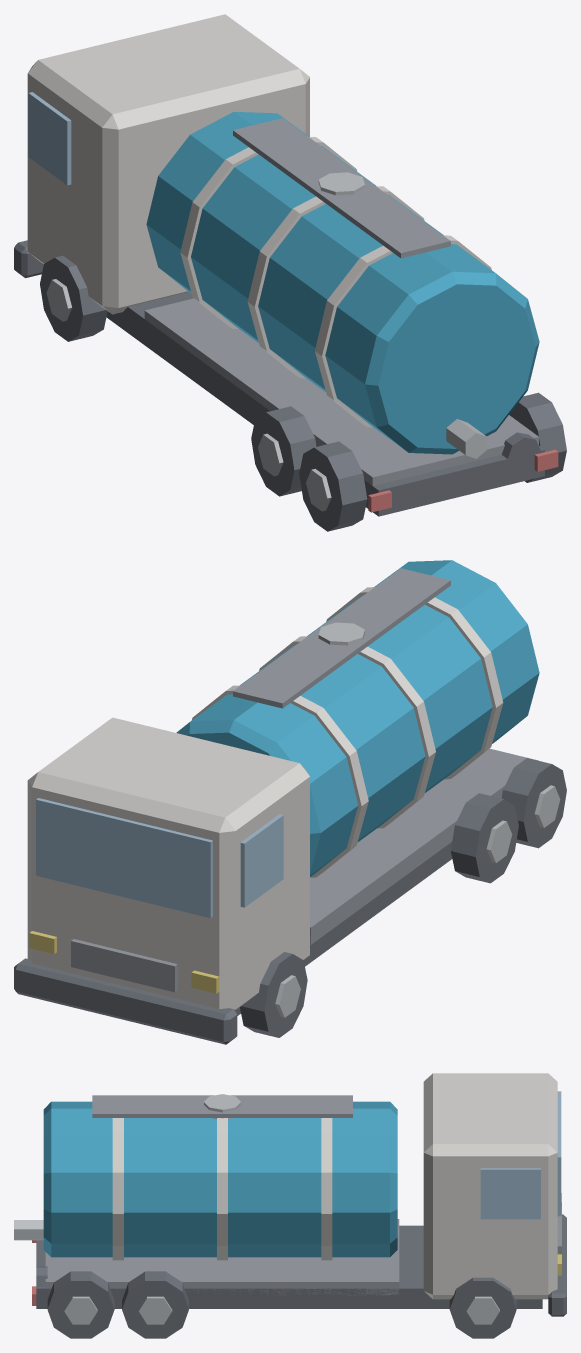
File: veiculos__caminhao_pipa.glb
3 views of the same model, one above another, from view 1: azimuth 30°, elevation 25°; view 2: azimuth 150°, elevation 25°; view 3: azimuth 270°, elevation 25° (orthographic). The views are drawn at different scales.
Parts seen in each view (by area): view 1: veiculos__caminhao_pipa; view 2: veiculos__caminhao_pipa; view 3: veiculos__caminhao_pipa.
Part boxes in pixels (left/top/right/bottom): veiculos__caminhao_pipa: left=14, top=14, right=566, bottom=531; veiculos__caminhao_pipa: left=14, top=560, right=566, bottom=1044; veiculos__caminhao_pipa: left=14, top=1073, right=566, bottom=1338.
Size of the model in its own units: 0.56 by 0.5756 by 1.48.
